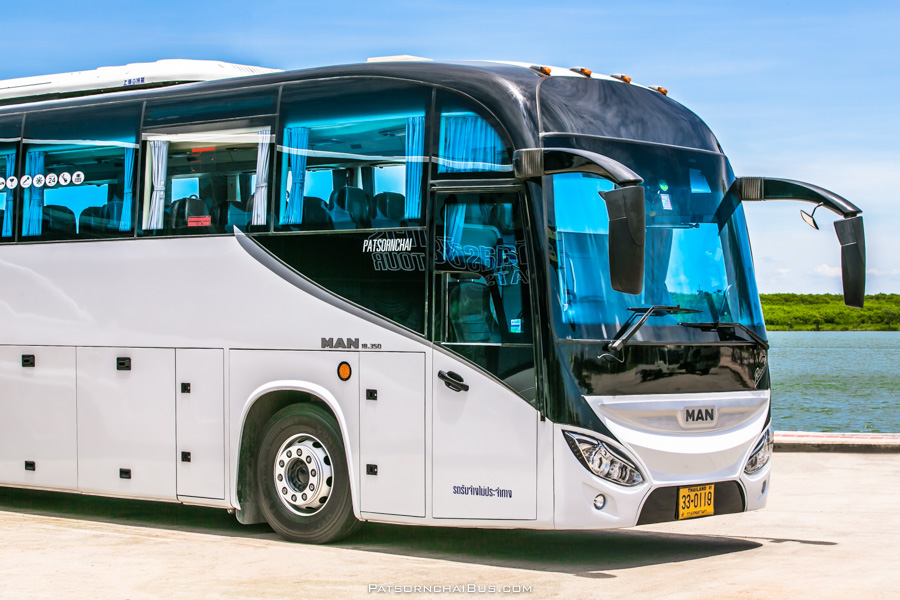bus: (8, 54, 776, 545)
